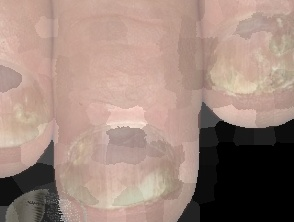Nail_psoriasis: (47, 95, 202, 222), (196, 1, 294, 119), (0, 15, 54, 161)
